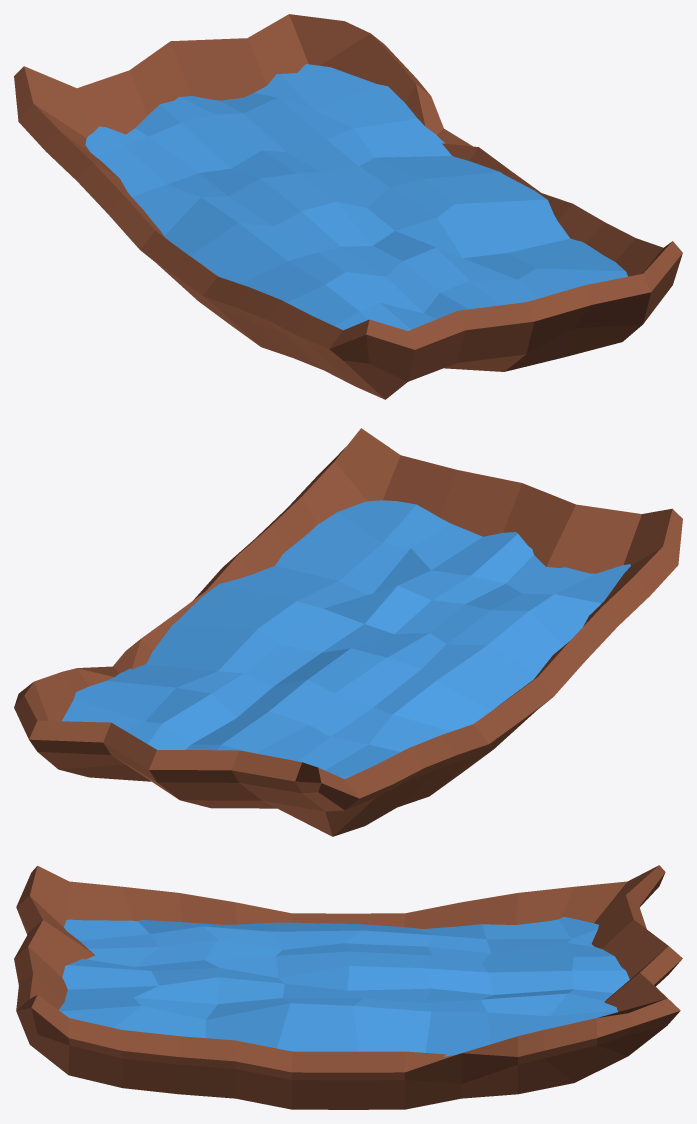
The model's file is cuenco_lleno.fbx.
3 views of the same model, one above another, from view 1: azimuth 30°, elevation 25°; view 2: azimuth 150°, elevation 25°; view 3: azimuth 270°, elevation 25° (orthographic). The views are drawn at different scales.
Visible parts, largest first — view 1: Plane.027, Cube.050; view 2: Plane.027, Cube.050; view 3: Plane.027, Cube.050.
Boxes of the visible parts, bbox=[...] form: Plane.027: bbox=[85, 64, 627, 330]; Cube.050: bbox=[14, 14, 682, 399]; Plane.027: bbox=[62, 500, 630, 778]; Cube.050: bbox=[14, 428, 682, 836]; Plane.027: bbox=[59, 917, 629, 1056]; Cube.050: bbox=[14, 865, 682, 1109].
Size of the model in its own units: 194 by 76.04 by 353.
